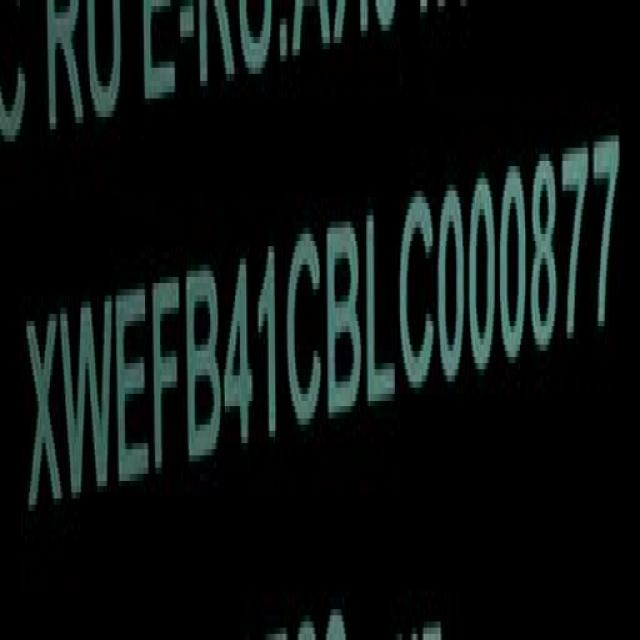0: (434, 189, 466, 392), (464, 180, 494, 381), (499, 169, 526, 362)
1: (258, 233, 284, 447)
4: (221, 246, 254, 454)
7: (559, 150, 588, 347), (594, 135, 618, 335)
8: (529, 146, 556, 353)
B: (325, 208, 365, 420), (186, 262, 221, 460)
C: (394, 173, 437, 415), (287, 242, 324, 433)
E: (110, 282, 151, 488)
F: (151, 262, 180, 470)
L: (355, 191, 397, 417)
W: (59, 298, 113, 497)
X: (24, 308, 64, 510)
